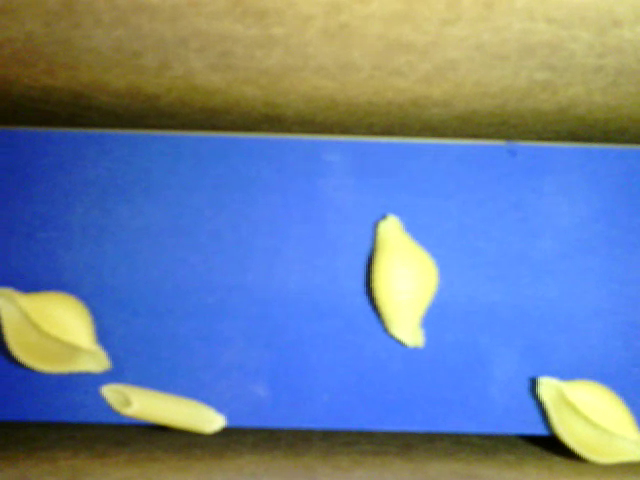penne: (100, 382, 227, 435)
shell: (1, 287, 112, 376), (535, 375, 639, 465), (370, 213, 436, 346)
